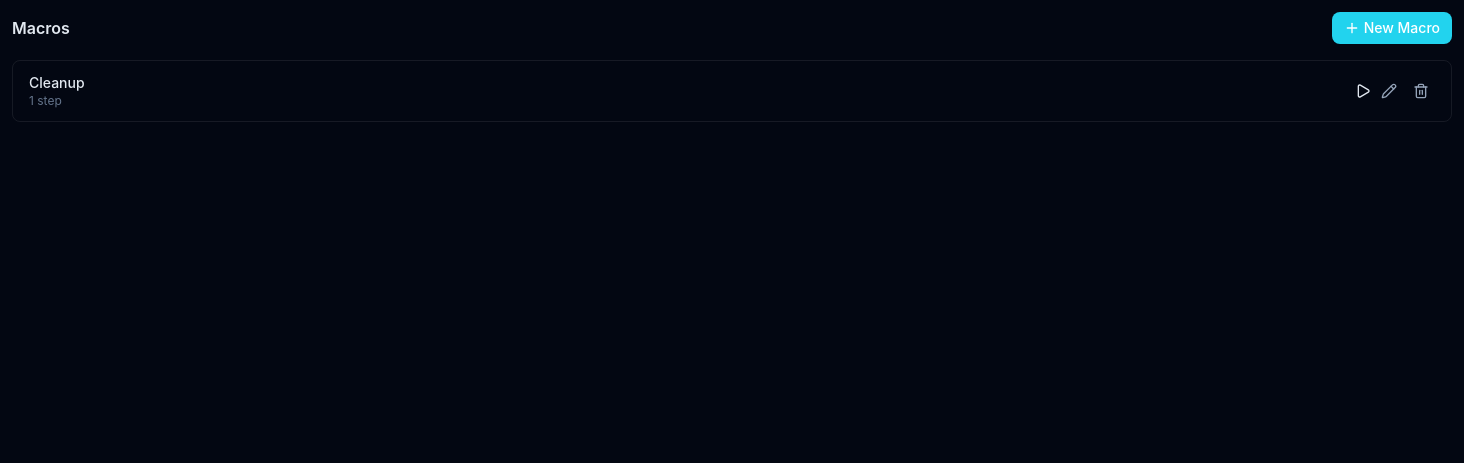
Scenario: MacroSettings step picker › marks an unknown step of a saved macro when the editor opens
Click the button titled "Edit macro".
click(1389, 91)  # box top-left (1375, 77), bottom-right (1403, 105)
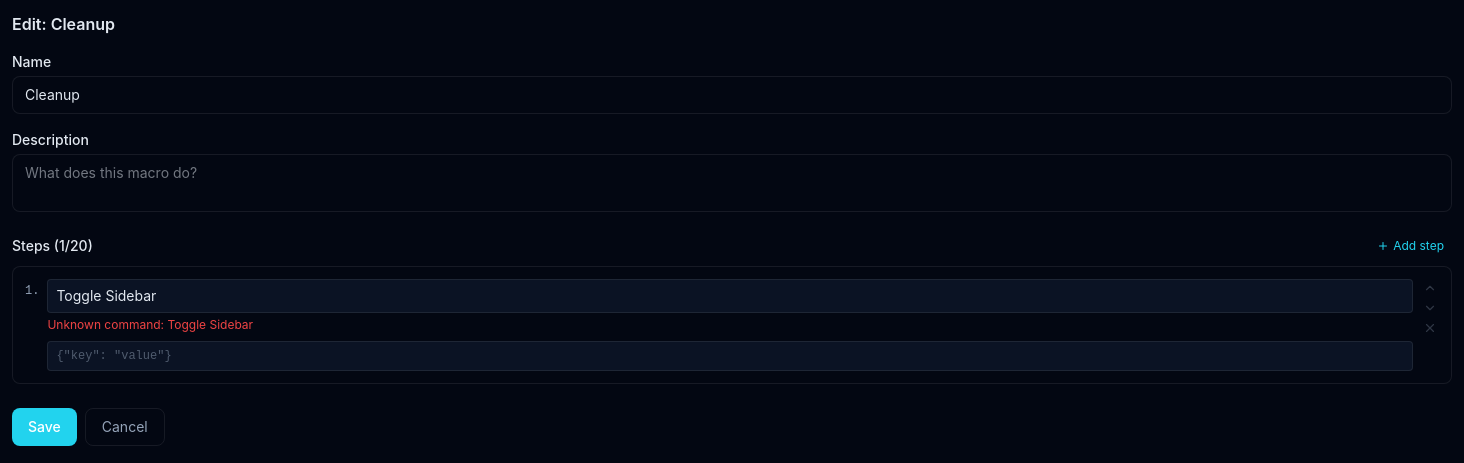
expect the text "Unknown command: Toggle Sidebar" is shown: met, box top-left (47, 317), bottom-right (253, 332)
